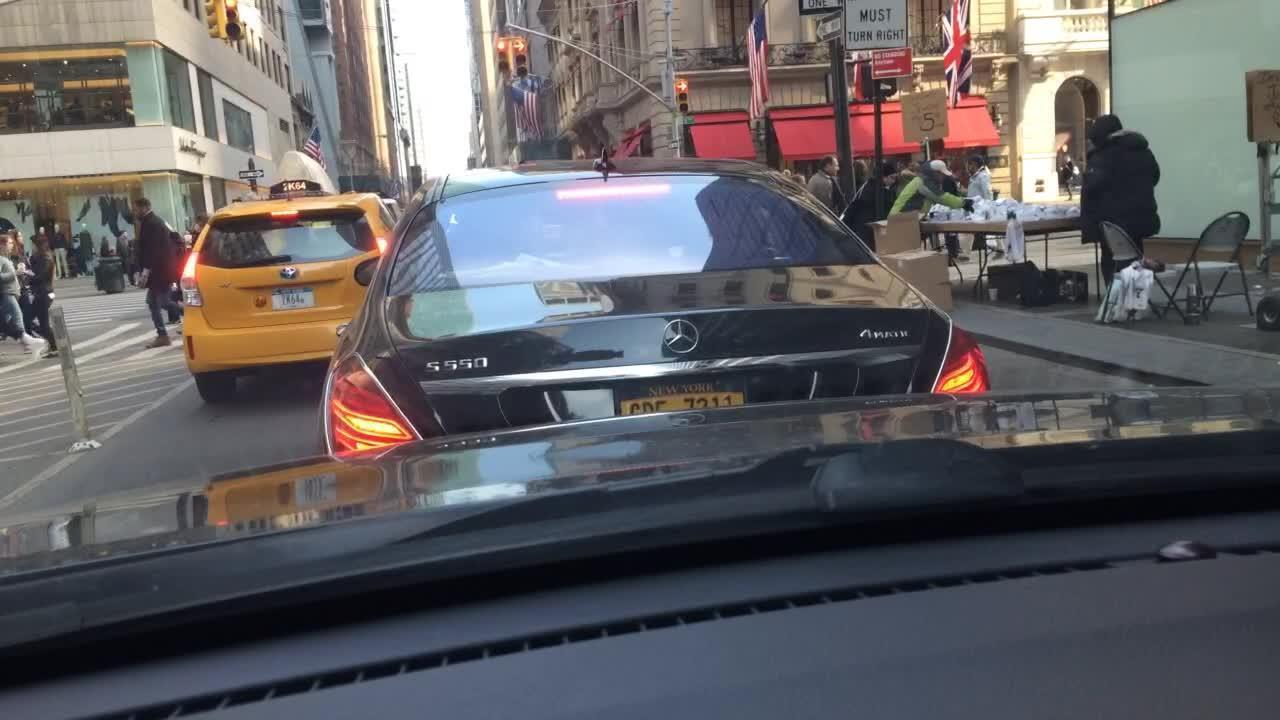Mercedes: (651, 312, 701, 364)
Toyota: (271, 258, 308, 288)
